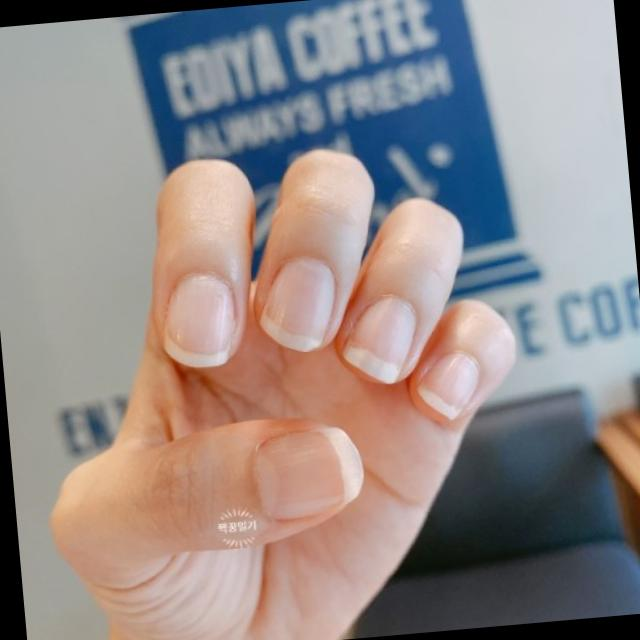Nail: (255, 425, 364, 520), (260, 257, 335, 351), (342, 295, 417, 383), (164, 273, 233, 368), (416, 352, 479, 419)
